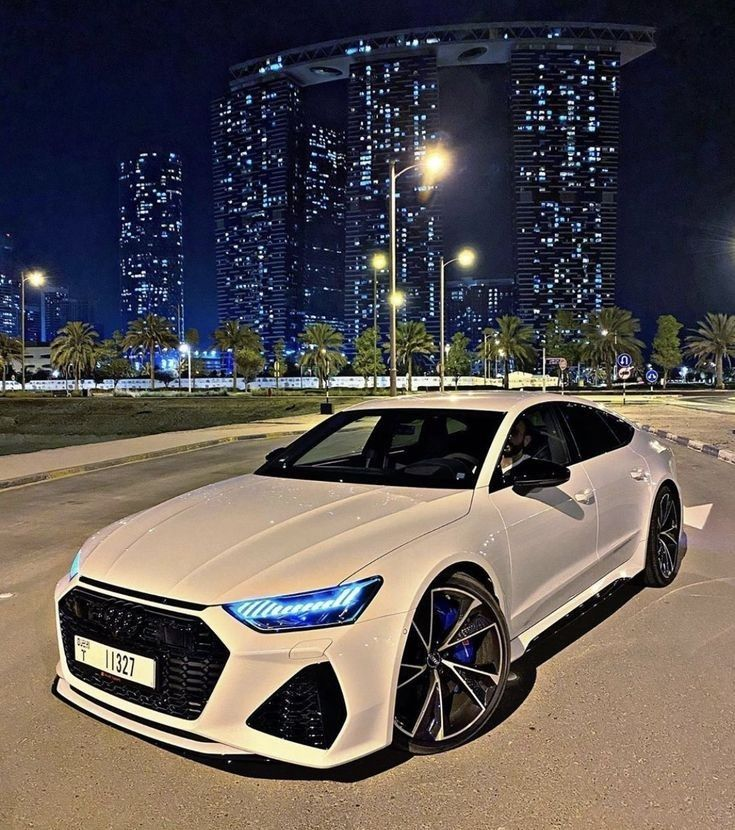car: (24, 383, 699, 766)
